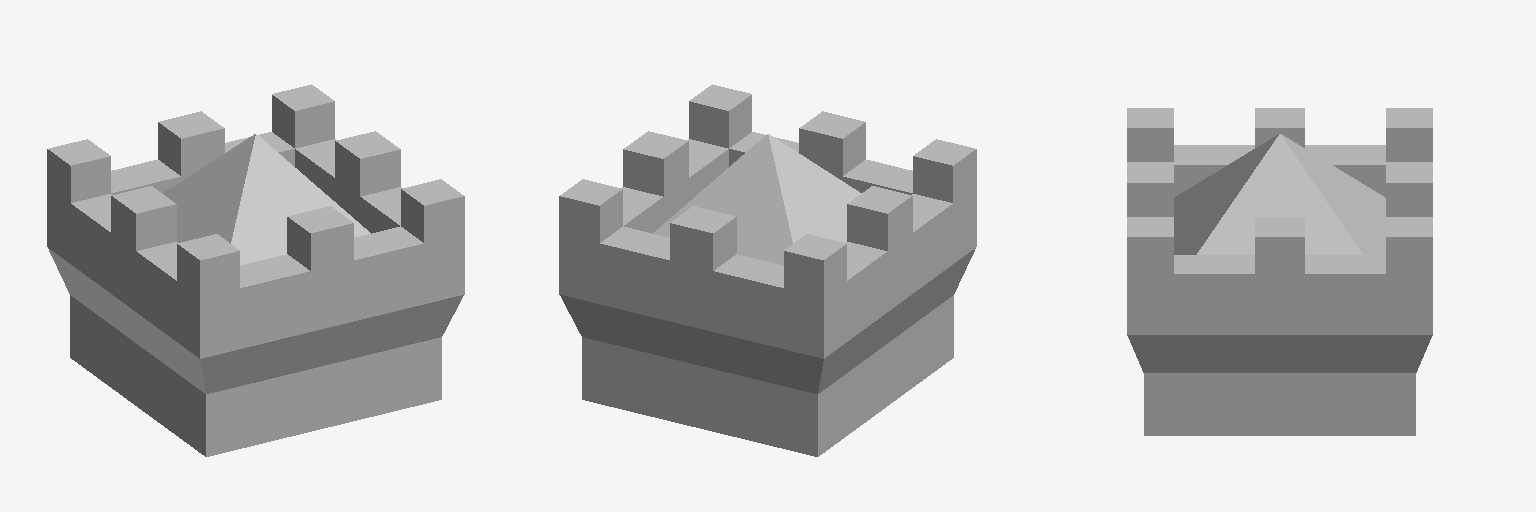
The model's file is tile_006.obj.
3 renders of one model, left to right at view 1: azimuth 30°, elevation 25°; view 2: azimuth 150°, elevation 25°; view 3: azimuth 270°, elevation 25°, orthographic.
Visible parts, largest first — view 1: tile_006, Group; view 2: tile_006, Group; view 3: tile_006, Group.
Boxes of the visible parts, <box> form: tile_006: <box>47,84,464,456</box>; Group: <box>162,134,370,265</box>; tile_006: <box>559,84,976,456</box>; Group: <box>653,134,861,265</box>; tile_006: <box>1127,108,1432,435</box>; Group: <box>1174,134,1385,254</box>.
Size of the model in its own units: 0.6609 by 0.586 by 0.6609.